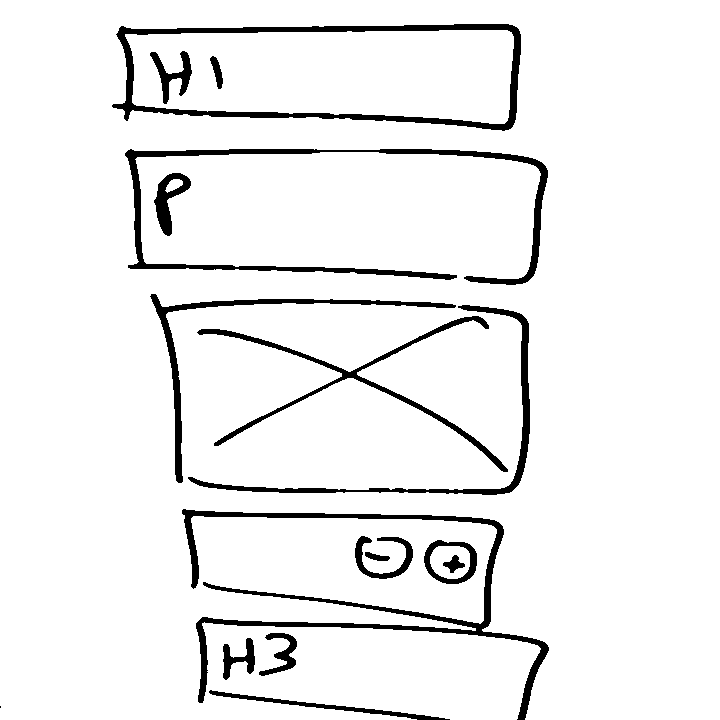heading1: (103, 18, 525, 139)
heading3: (191, 612, 548, 720)
inline stepper bar: (181, 504, 505, 629)
paragraph: (116, 143, 551, 287)
picture: (144, 291, 533, 501)
